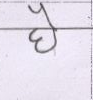ai_matra: (28, 2, 59, 27)
